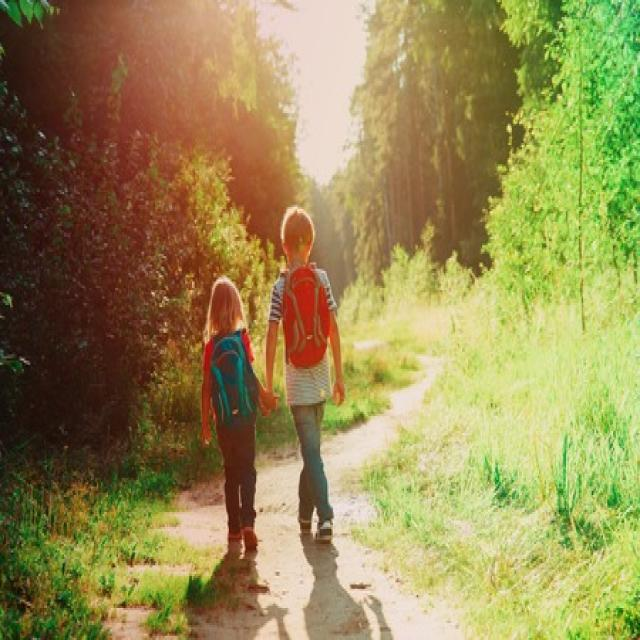Person: (265, 207, 345, 543), (201, 276, 279, 548)
